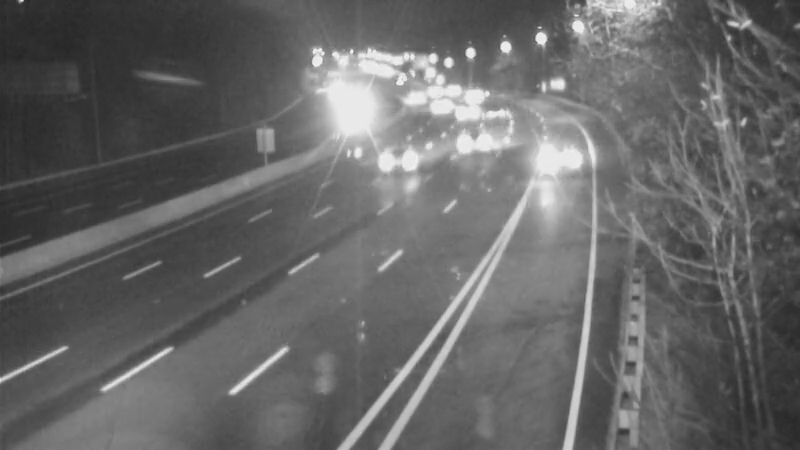vehicle: (357, 122, 437, 202), (511, 112, 591, 192), (411, 63, 461, 113), (448, 68, 498, 118), (391, 72, 441, 122), (411, 81, 461, 131), (440, 84, 490, 134), (467, 85, 517, 135), (439, 124, 489, 174), (327, 105, 377, 155)
